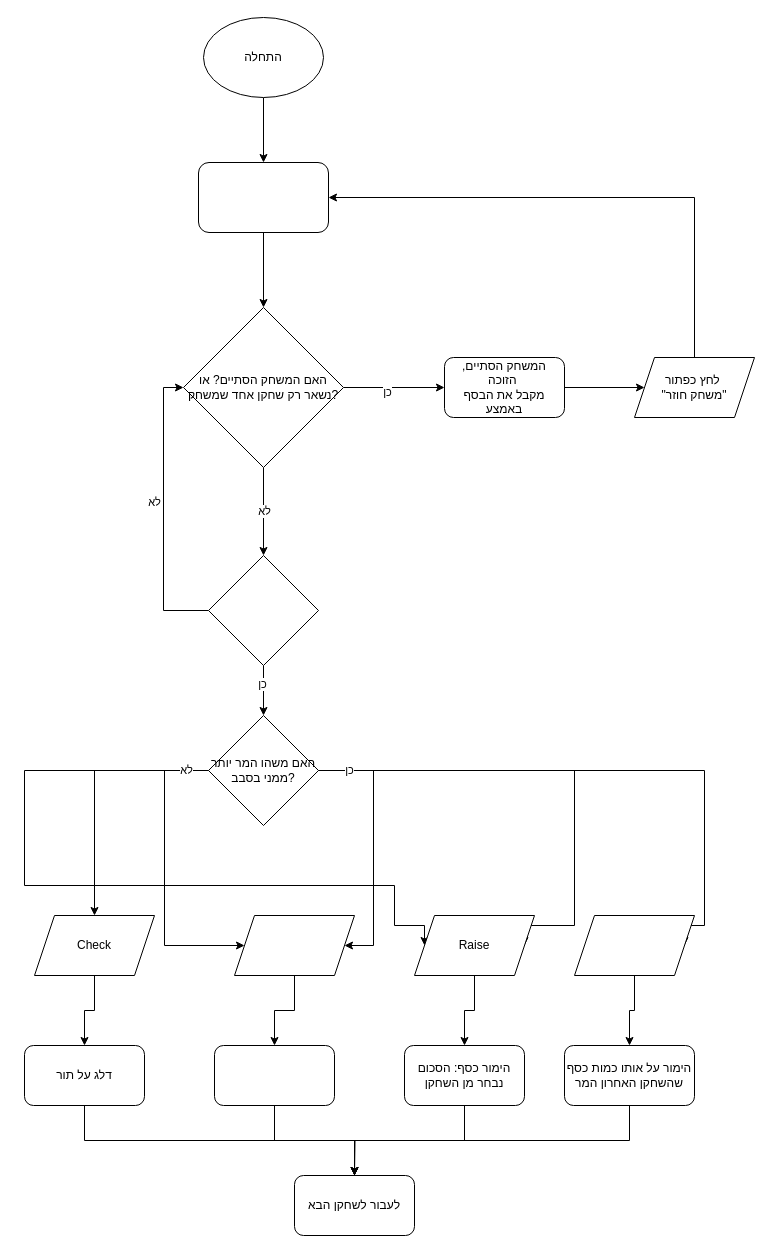
This 772x1253 diagram has some shape labels left out. Each missing label, with the centre of its shape:
"Call" belongs at pixel 634 945.
"Fold" belongs at pixel 294 945.
"האם תורי?" belongs at pixel 263 610.
"הופך שחקן פועל לצופה למשחק זה" belongs at pixel 274 1075.
"הצגת קלפים של השחקן, הצגת שם משתמש ותפוחים של כל משתמש" belongs at pixel 263 197.
